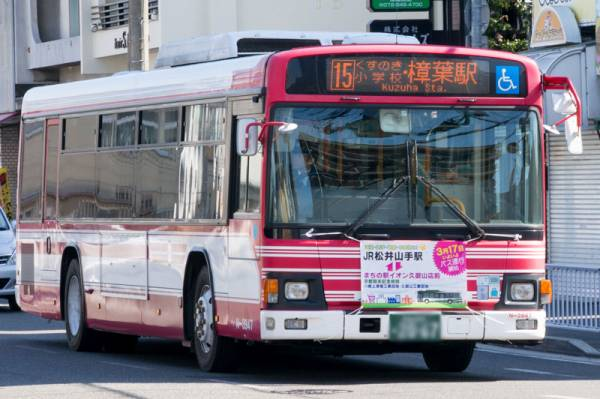destination: (326, 57, 489, 94)
